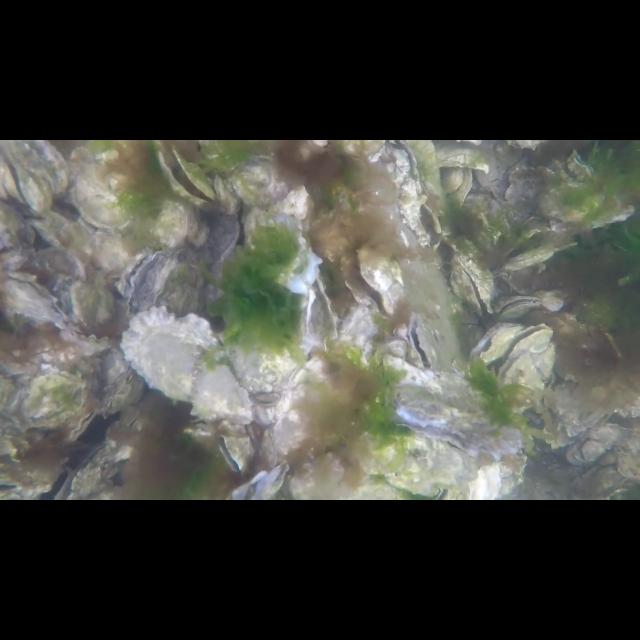Oyster-Closed: (121, 306, 253, 426), (352, 430, 478, 494), (268, 358, 330, 460), (68, 160, 136, 233), (8, 368, 88, 424), (26, 210, 94, 266), (56, 276, 114, 332), (338, 303, 378, 362), (503, 241, 575, 273), (405, 140, 443, 198), (150, 200, 193, 248), (59, 329, 113, 357), (387, 337, 411, 361)
Oyster-Open: (234, 157, 324, 293), (388, 377, 524, 458), (380, 140, 442, 244), (54, 432, 144, 500), (154, 146, 226, 212), (546, 369, 614, 437), (342, 245, 404, 319), (0, 269, 68, 331), (0, 140, 56, 213), (494, 324, 552, 386), (450, 252, 498, 314), (112, 247, 158, 306), (304, 275, 338, 353), (226, 460, 290, 500), (57, 398, 103, 446), (468, 321, 522, 361), (406, 312, 440, 371), (217, 432, 253, 472), (496, 295, 538, 319)
